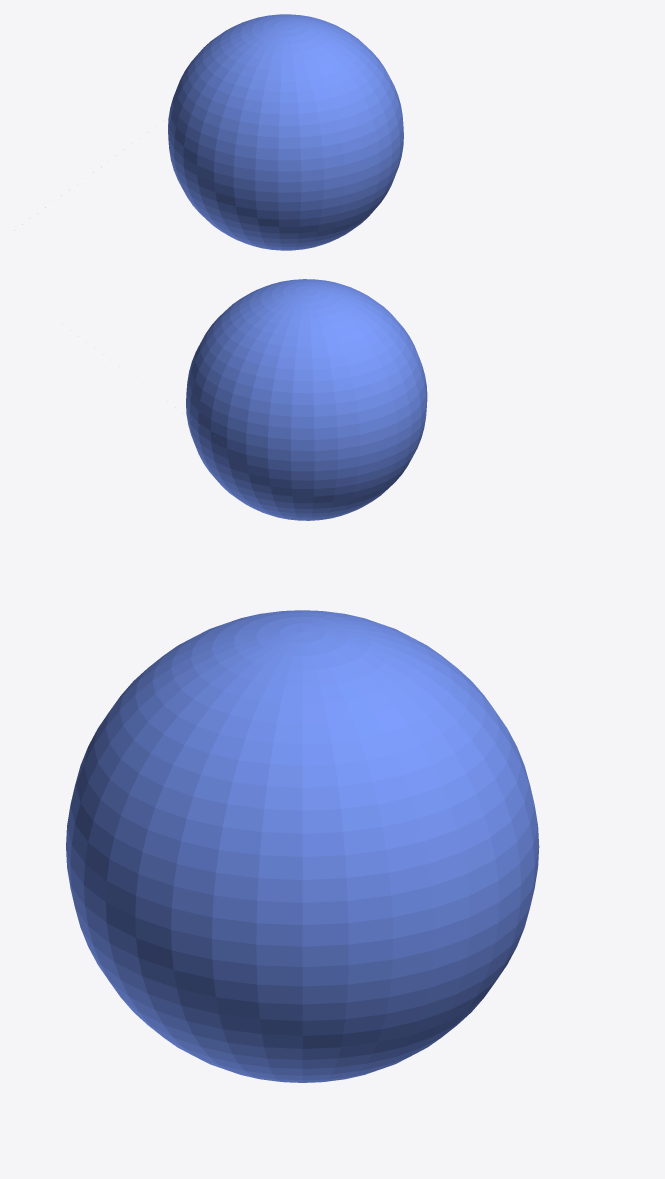
The model's file is Struktur_NO2.glb.
3 renders of one model, top to bottom at view 1: azimuth 30°, elevation 25°; view 2: azimuth 150°, elevation 25°; view 3: azimuth 270°, elevation 25°, orthographic. The views are drawn at different scales.
Visible parts, largest first — view 1: Nitrogen_ball.001; view 2: Nitrogen_ball.001; view 3: Nitrogen_ball.001.
Boxes of the visible parts, x1,y1,x2,y2 form: Nitrogen_ball.001: (168, 14, 403, 250); Nitrogen_ball.001: (186, 279, 427, 520); Nitrogen_ball.001: (66, 610, 539, 1082).
Size of the model in its own units: 2.31 by 0.75 by 0.8448.
